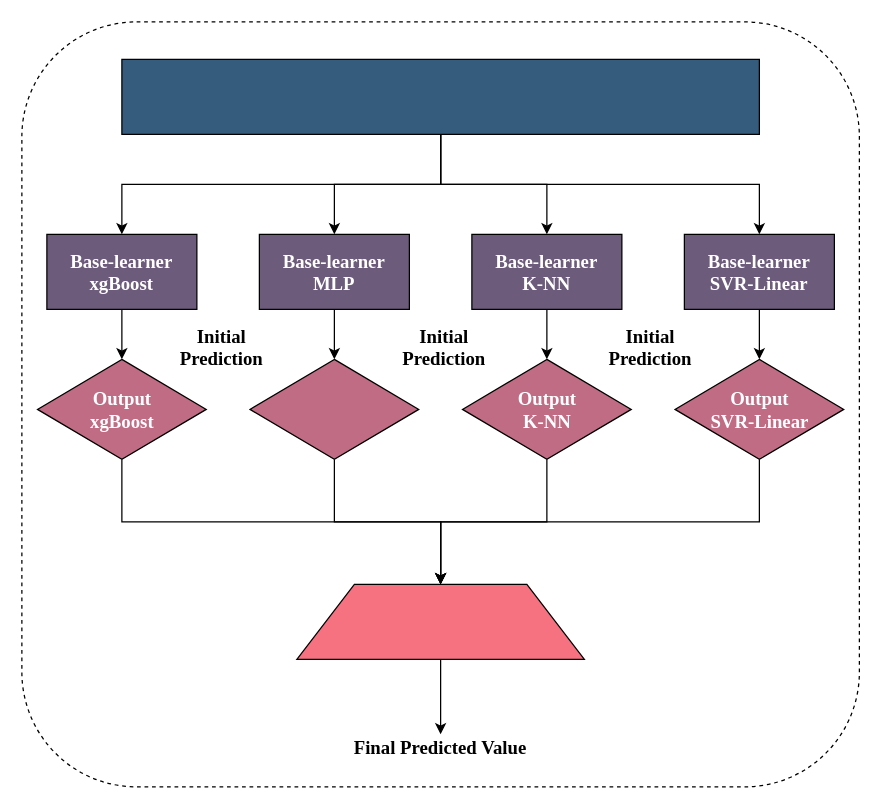
Image size: 881x809. Some labels were removed from this diagram. The shapes that lost their labels are listed below. From the top down, each one's centre as x and y in pixels, then its label:
(440,96): Dataset
(334,408): Output MLP
(440,621): Meta-learner SVR-RBF
